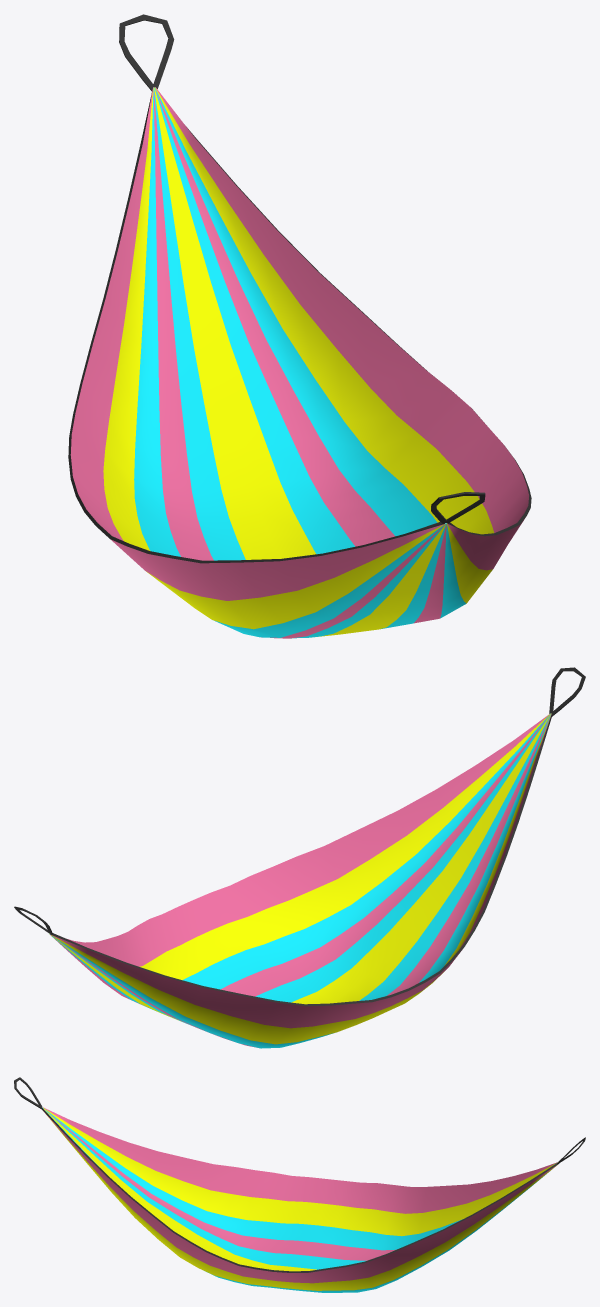
Rendered from Hammock.gltf.
3 renders of one model, top to bottom at view 1: azimuth 30°, elevation 25°; view 2: azimuth 150°, elevation 25°; view 3: azimuth 270°, elevation 25°, orthographic. The views are drawn at different scales.
Visible parts, largest first — view 1: node-0; view 2: node-0; view 3: node-0.
Boxes of the visible parts, x1=… form: node-0: x1=68, y1=14, x2=531, y2=638; node-0: x1=14, y1=667, x2=585, y2=1048; node-0: x1=14, y1=1077, x2=585, y2=1292.
Bounding box in the file's own units: 218279 × 178072 × 542716.
